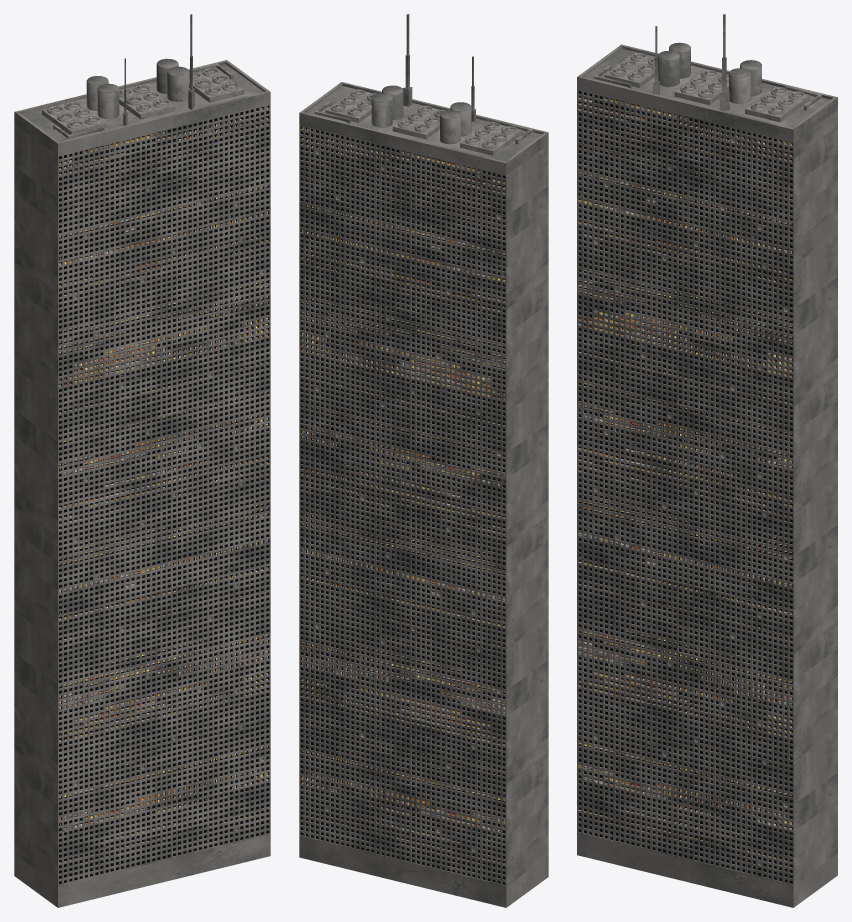
The model's file is quality-skyscraper-rectangular-big.glb.
3 renders of one model, left to right at view 1: azimuth 30°, elevation 25°; view 2: azimuth 150°, elevation 25°; view 3: azimuth 330°, elevation 25°, orthographic. The views are drawn at different scales.
Visible parts, largest first — view 1: quality-skyscraper-rectangular-big; view 2: quality-skyscraper-rectangular-big; view 3: quality-skyscraper-rectangular-big.
Boxes of the visible parts, box(x1,y1,x2,y2) form: quality-skyscraper-rectangular-big: box(14, 14, 270, 907); quality-skyscraper-rectangular-big: box(299, 14, 548, 907); quality-skyscraper-rectangular-big: box(577, 14, 837, 907).
Size of the model in its own units: 113 by 436 by 40.23.
2 materials, 2 textured.
